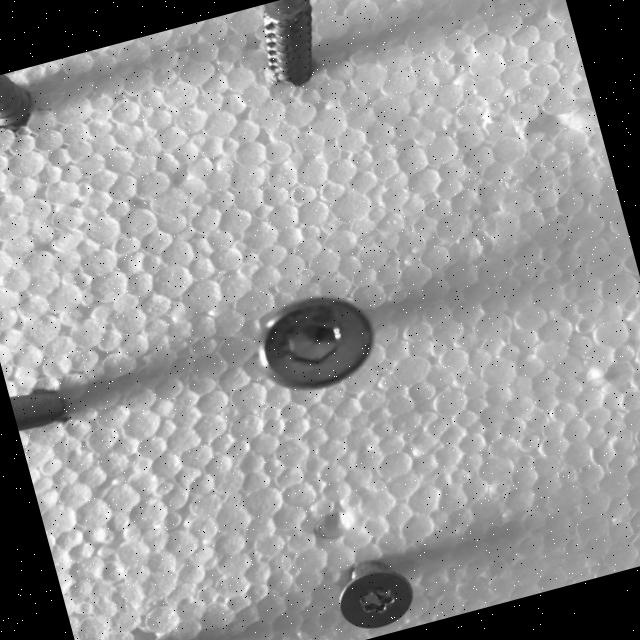Hex Socket Allen: (250, 284, 384, 400)
Torx: (332, 560, 422, 636)
